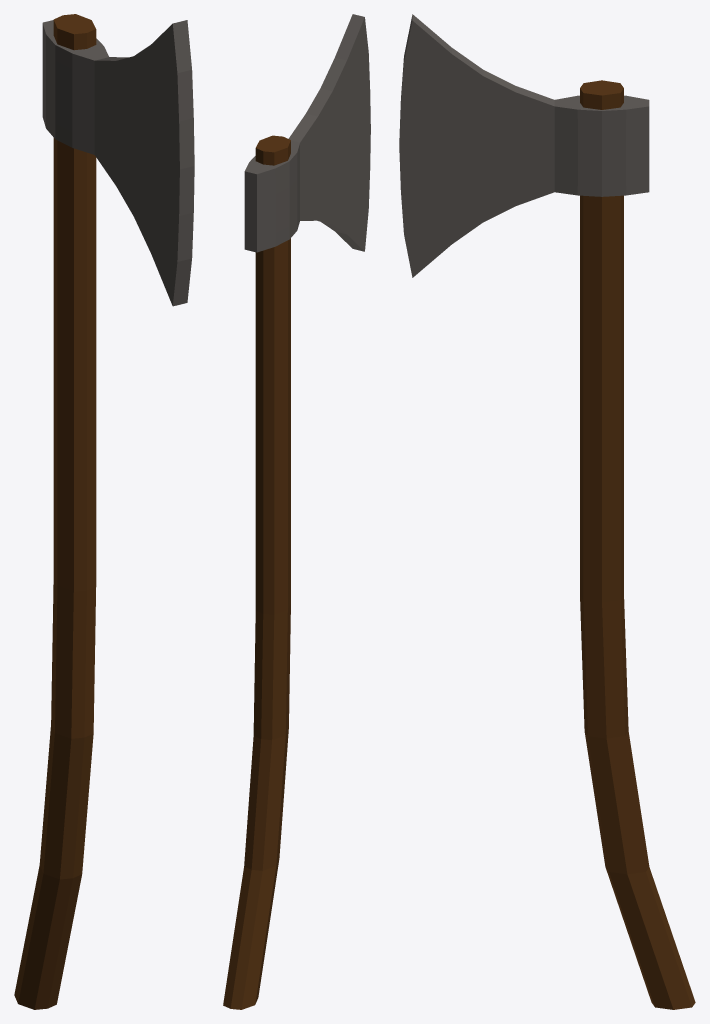
The model's file is axe.fbx.
The picture shows the model from 3 angles, left to right: view 1: azimuth 30°, elevation 25°; view 2: azimuth 150°, elevation 25°; view 3: azimuth 270°, elevation 25°; orthographic projection. The views are drawn at different scales.
Visible parts, largest first — view 1: Axe; view 2: Axe; view 3: Axe.
Boxes of the visible parts, left/top/right/bottom form: Axe: left=14, top=14, right=194, bottom=1009; Axe: left=223, top=14, right=370, bottom=1009; Axe: left=399, top=14, right=695, bottom=1009.
Bounding box in the file's own units: 3.94 × 105 × 28.72.
